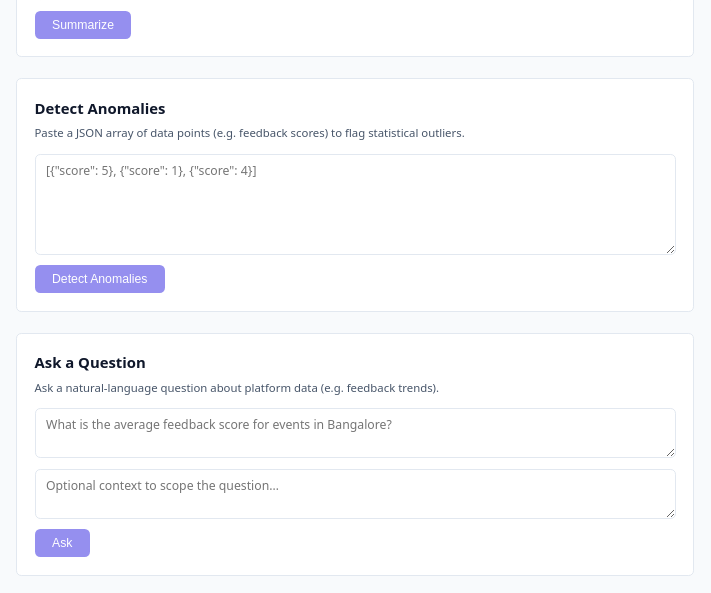
Test: AiInsightsContent › submits a question and shows the answer once completed
The width and height of the screenshot is (711, 593).
(page scrolled)
Type "What is the average score?" into the text box named "Question". click: point(355, 433)
box: [34,408,676,458]
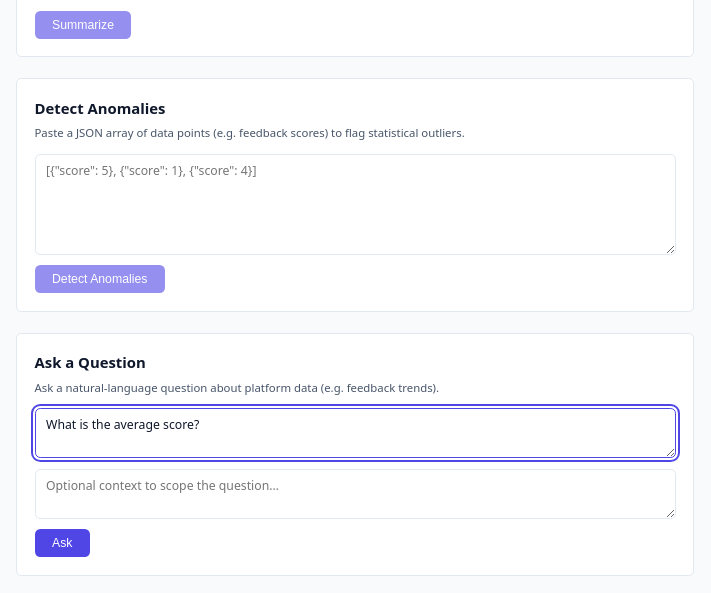
Click the button "Ask". click: point(62, 543)
box: [34,529,90,557]
(page scrolled)
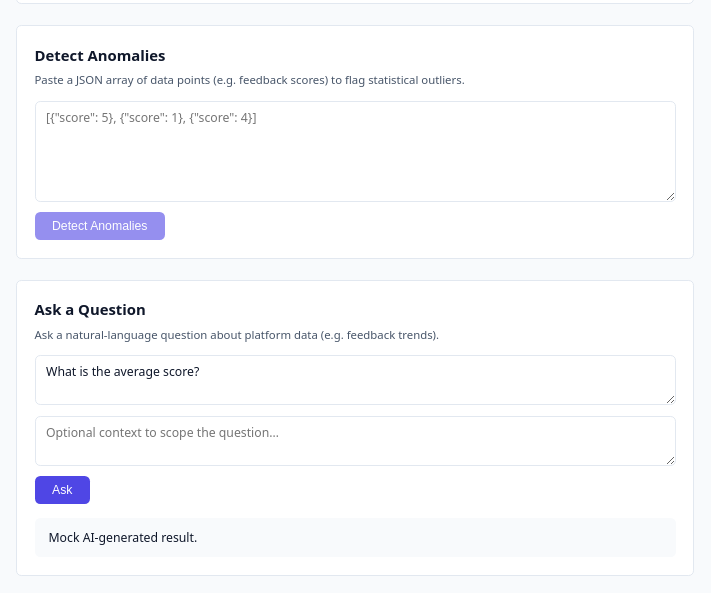
Result: the text "Mock AI-generated result." is shown at [48,528,197,547]
